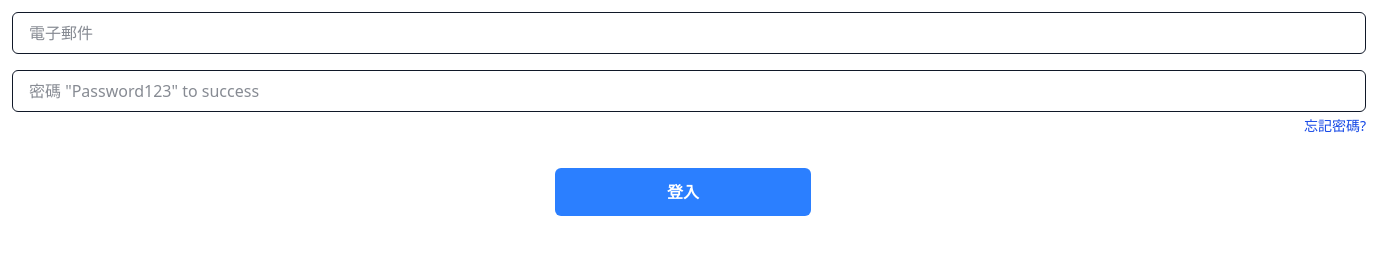
LoginForm 整合測試 › 當使用者未輸入任何資料就提交時，應顯示驗證錯誤訊息
The width and height of the screenshot is (1378, 273).
Click the button "登入" at (683, 192), box x1=555 y1=168 x2=811 y2=216
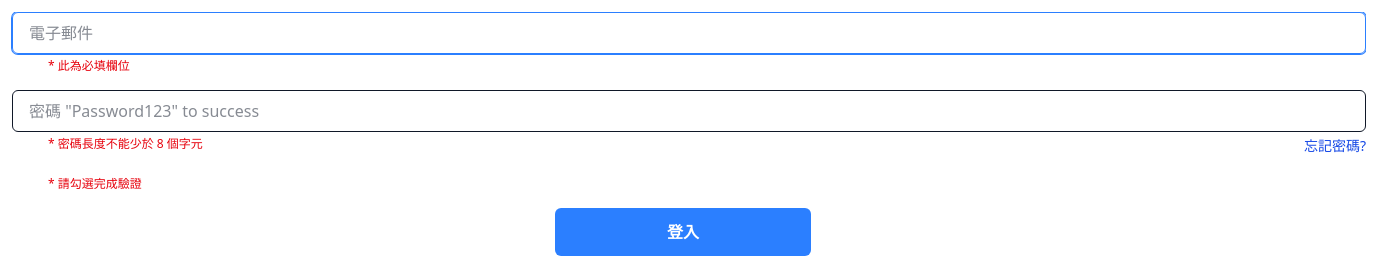
Check: the text "* 此為必填欄位" is shown, box x1=48 y1=57 x2=130 y2=74
Check: the text "* 密碼長度不能少於 8 個字元" is shown, box x1=48 y1=136 x2=203 y2=156
Check: the text "* 請勾選完成驗證" is shown, box x1=48 y1=175 x2=142 y2=192
